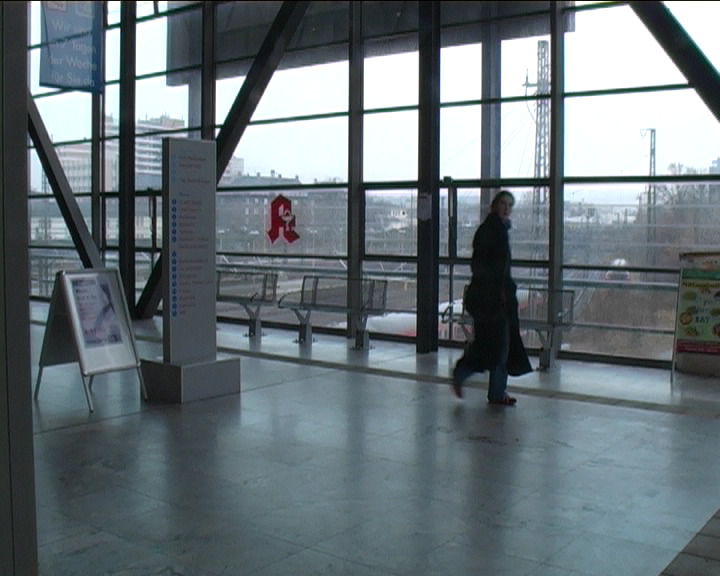deflection: (467, 187, 529, 301)
